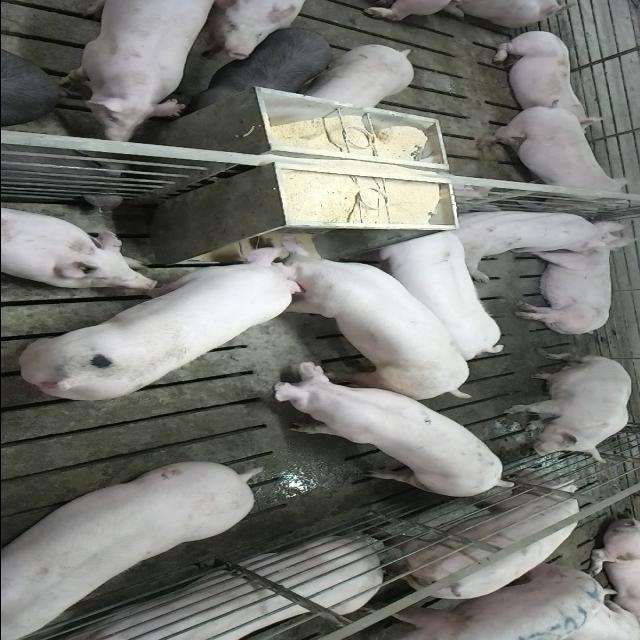Feeding: (16, 240, 306, 403), (257, 234, 474, 404)
Lateral_lying: (510, 241, 620, 336)
Sitting: (502, 354, 632, 463), (445, 206, 629, 270)
Standing: (0, 464, 257, 640), (256, 364, 512, 500), (363, 482, 588, 614), (54, 2, 224, 142), (364, 226, 506, 362), (358, 562, 598, 640), (471, 100, 633, 204), (184, 29, 336, 111), (300, 44, 414, 110), (2, 38, 66, 126)
Sternal_lying: (30, 540, 378, 640), (0, 202, 158, 290), (486, 28, 602, 124)
